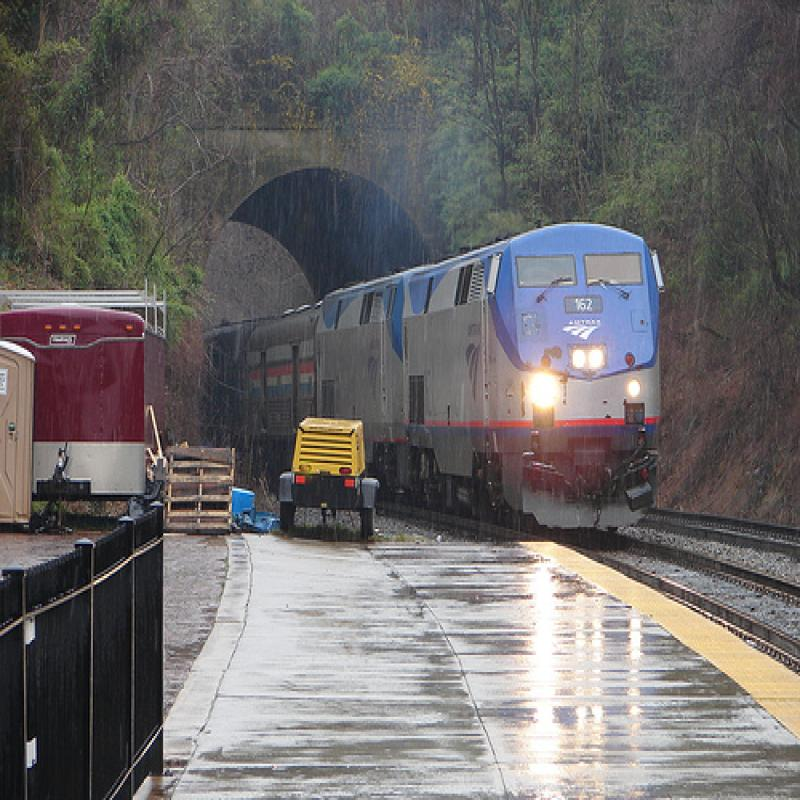train: (200, 219, 669, 545)
